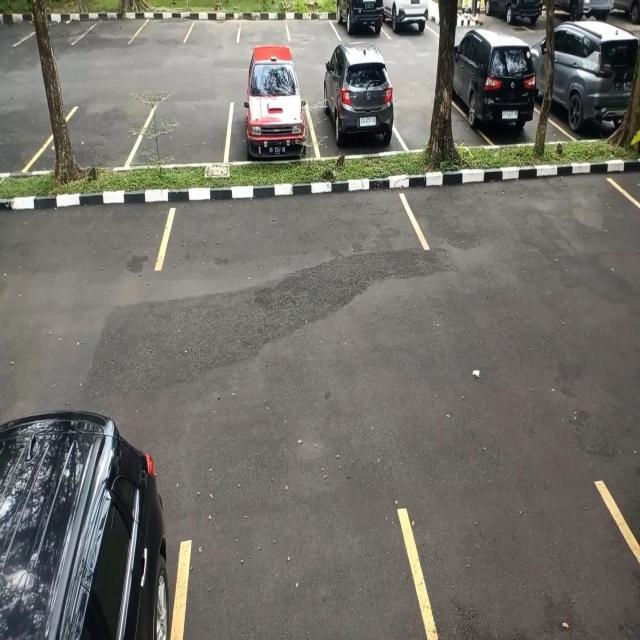empty: (400, 492, 640, 640), (183, 505, 434, 640), (162, 178, 413, 265), (414, 171, 640, 258), (50, 99, 140, 171), (139, 95, 227, 163)
occupied: (550, 31, 632, 140), (455, 42, 541, 145), (313, 71, 399, 155), (228, 90, 314, 163)
